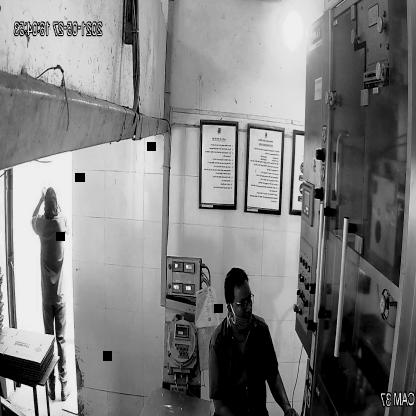goggles: (224, 289, 256, 314)
